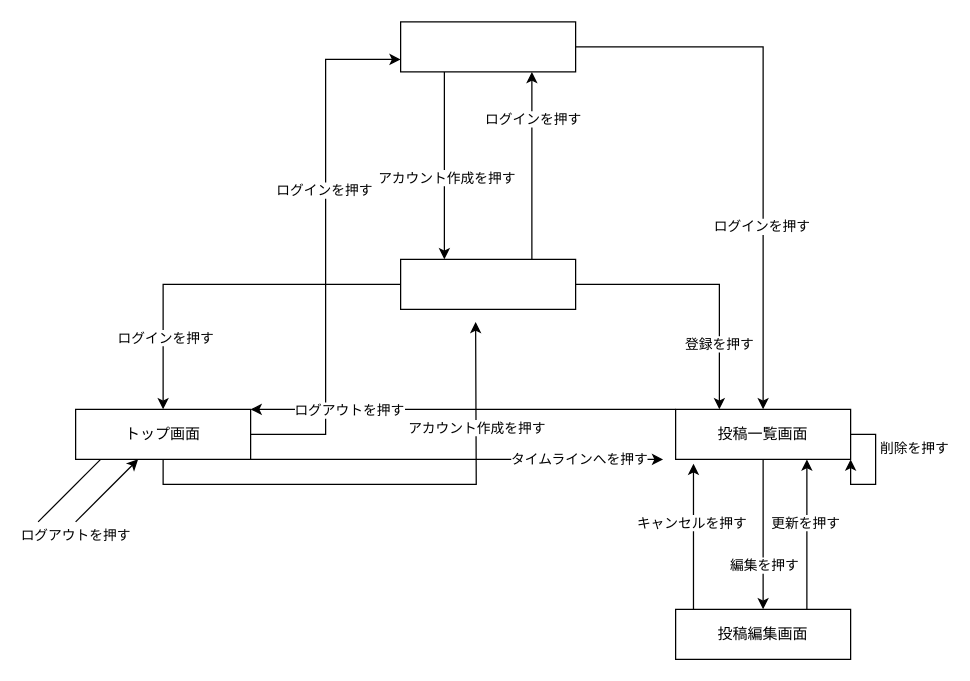
Image size: 970x681. Some labels were removed from this diagram. Each missing label, with the box of its shape:
ユーザー登録画面: (399, 258, 576, 309)
ログイン画面: (399, 21, 576, 72)
